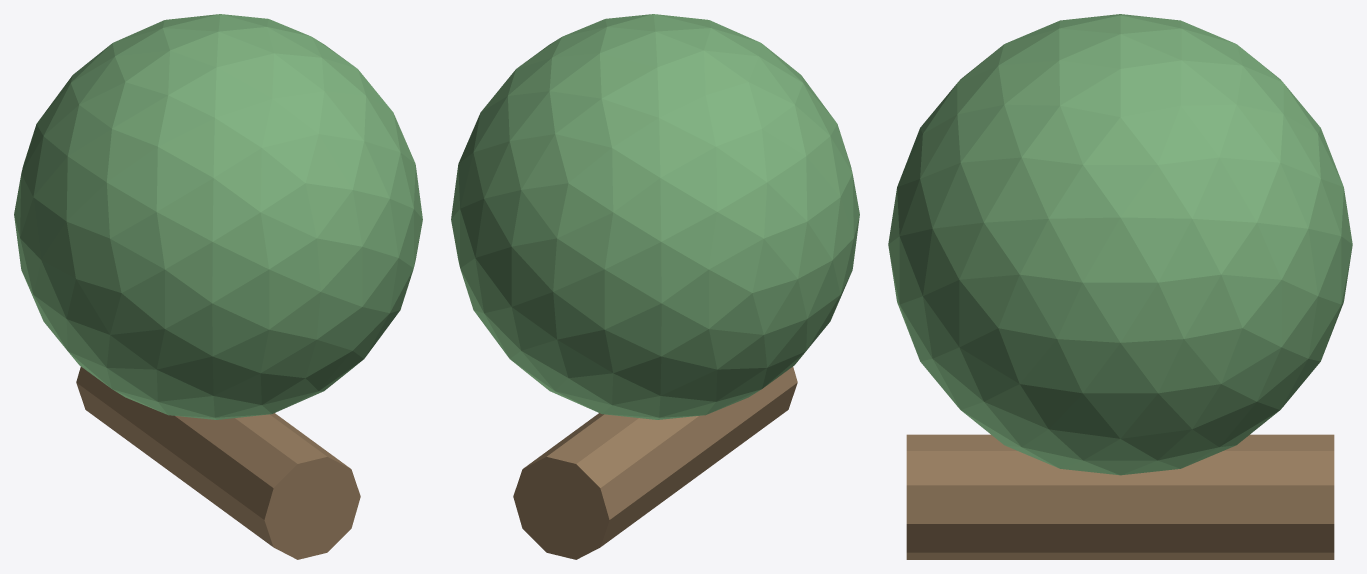
The model's file is fruit_tree.glb.
The picture shows the model from 3 angles, left to right: view 1: azimuth 30°, elevation 25°; view 2: azimuth 150°, elevation 25°; view 3: azimuth 270°, elevation 25°; orthographic projection. The views are drawn at different scales.
Visible parts, largest first — view 1: fruit_tree_1, fruit_tree_0; view 2: fruit_tree_1, fruit_tree_0; view 3: fruit_tree_1, fruit_tree_0.
Part boxes in pixels (x1,y1,x2,y2): fruit_tree_1: (14,14,422,419); fruit_tree_0: (76,366,360,559); fruit_tree_1: (451,14,859,419); fruit_tree_0: (513,366,797,559); fruit_tree_1: (888,14,1352,475); fruit_tree_0: (906,434,1334,559).
Bounding box in the file's own units: 2.5 × 3.07 × 2.5.
